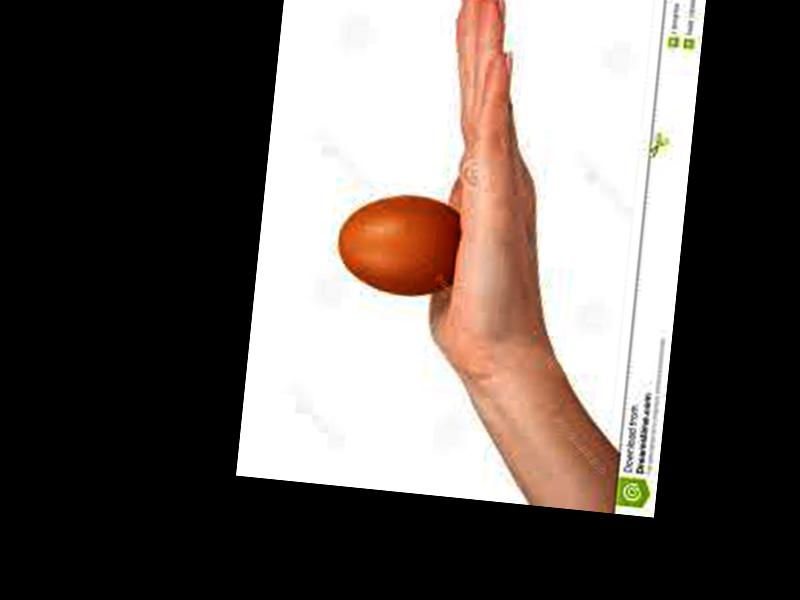Eggs: (334, 188, 466, 298)
